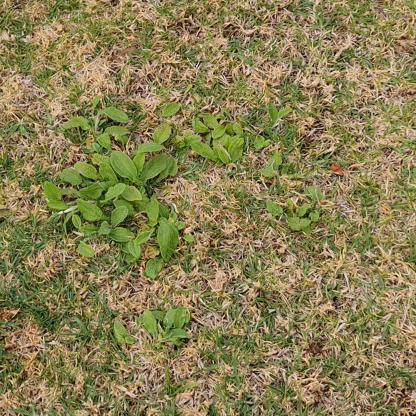Weeds: (44, 95, 294, 279), (260, 150, 324, 235), (113, 306, 190, 349)
